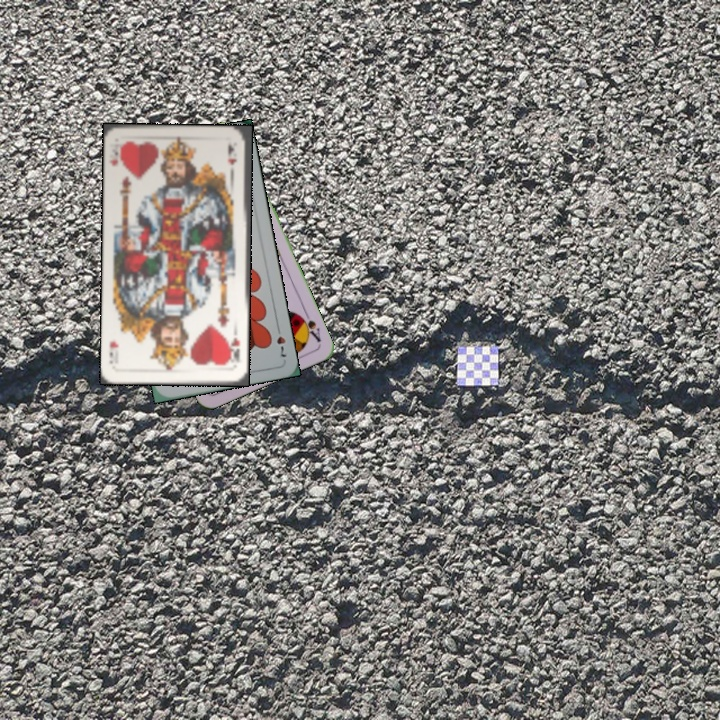H7: (272, 321, 289, 360)
HK: (225, 333, 243, 365), (106, 139, 124, 168)
SA: (295, 307, 323, 345)
